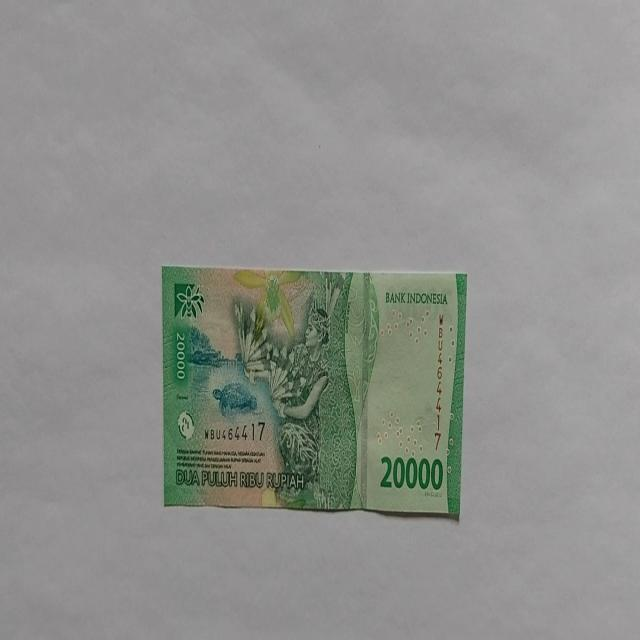dua puluh ribu rupiah: (162, 265, 468, 519)
